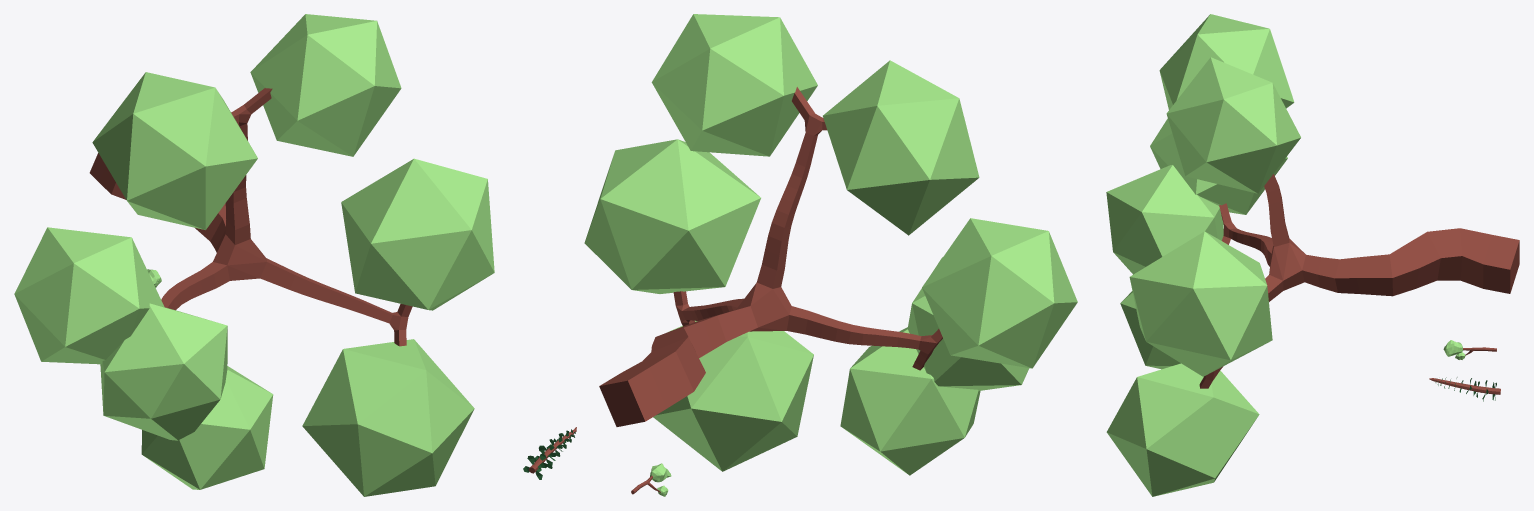
File: Trees .fbx
The picture shows the model from 3 angles, left to right: view 1: azimuth 30°, elevation 25°; view 2: azimuth 150°, elevation 25°; view 3: azimuth 270°, elevation 25°; orthographic projection. The views are drawn at different scales.
Visible parts, largest first — view 1: Tree 2 LOD_0; view 2: Tree 2 LOD_0, tree 3 LOD_0; view 3: Tree 2 LOD_0, tree 3 LOD_0.
Boxes of the visible parts, x1,y1,x2,y2 form: Tree 2 LOD_0: (14, 14, 494, 496); Tree 2 LOD_0: (584, 14, 1077, 475); tree 3 LOD_0: (523, 427, 576, 479); Tree 2 LOD_0: (1106, 14, 1519, 496); tree 3 LOD_0: (1429, 377, 1500, 401).
Size of what is drawn, in the model's own units: 9.55 by 9.03 by 8.41.
